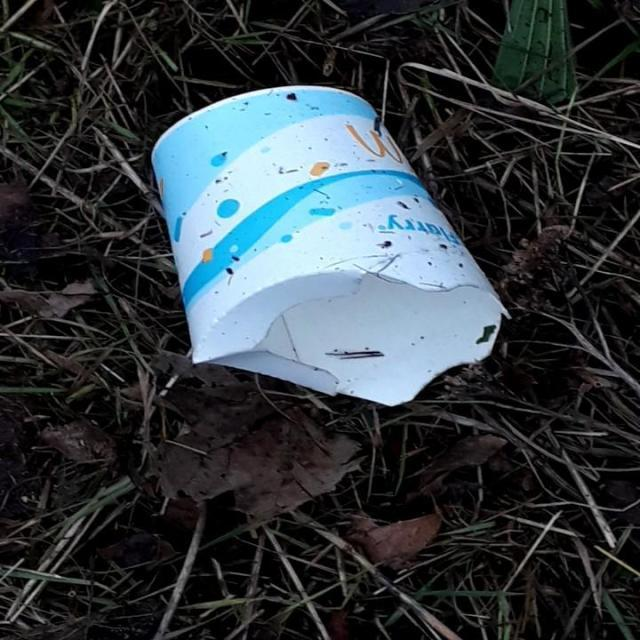Paper: (148, 82, 514, 407)
